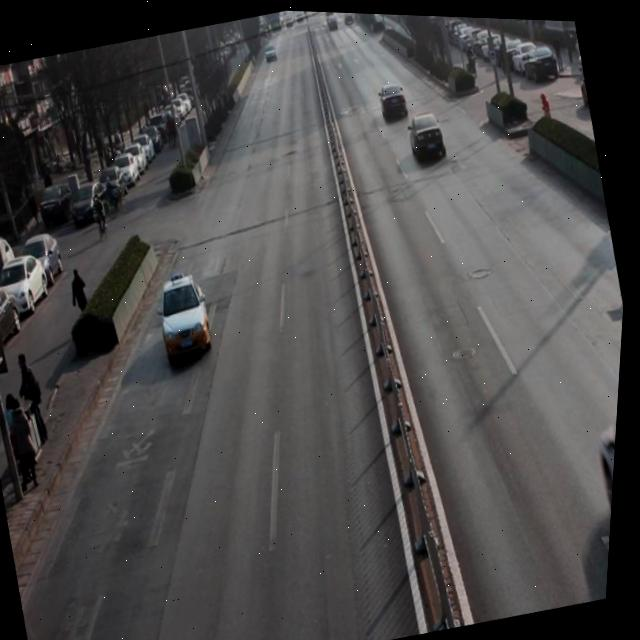car: (153, 264, 223, 366), (590, 397, 622, 576), (402, 103, 453, 165), (375, 74, 416, 124)
